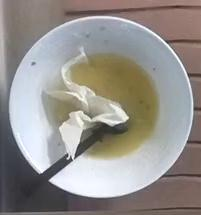soup: (70, 53, 157, 158)
